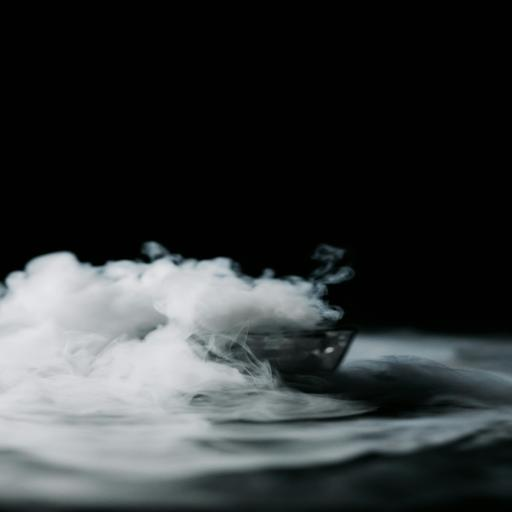smoke: (3, 203, 512, 500)
